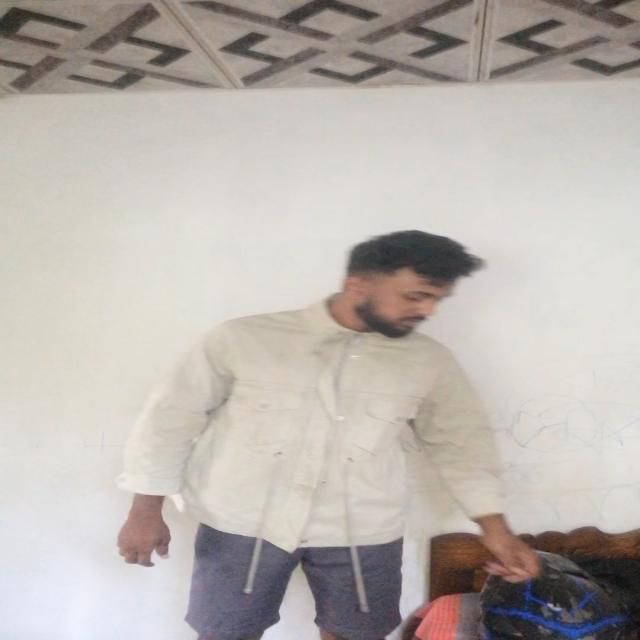Jacket_Wearer: (133, 297, 528, 545)
Person: (147, 216, 530, 640)
